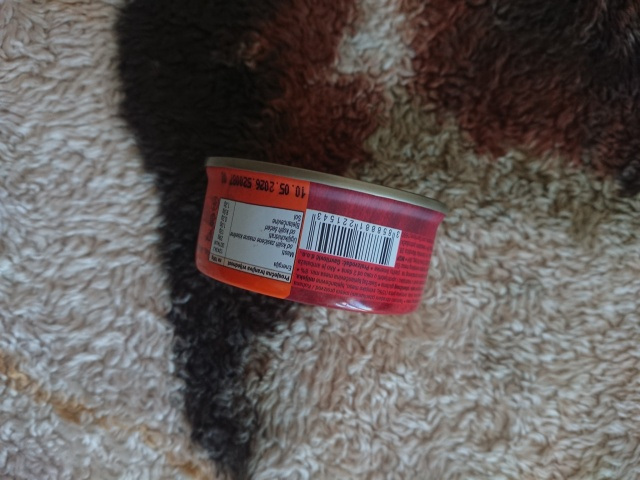Gavrilovic Pork Liver Pate 100g: (192, 152, 451, 318)
